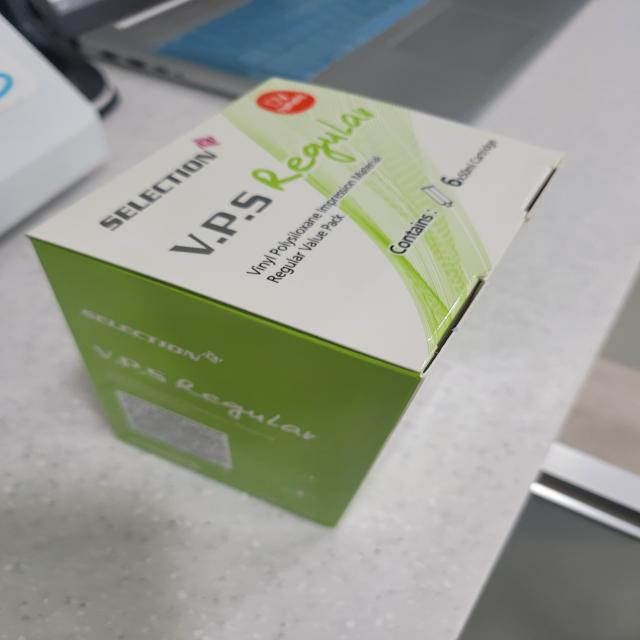impression: (29, 70, 574, 540)
